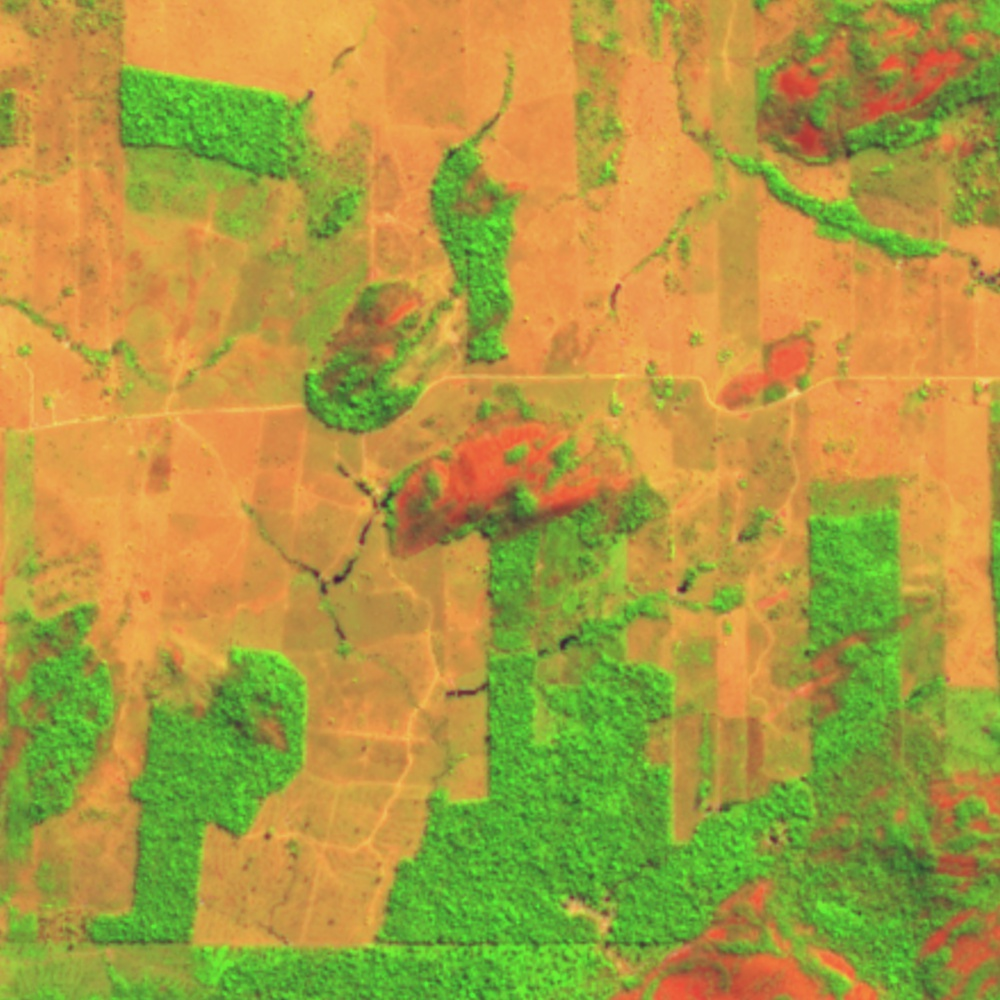legal: (243, 459, 405, 651), (556, 878, 650, 983), (601, 219, 679, 323), (293, 35, 364, 113), (719, 799, 797, 853), (445, 112, 500, 174), (534, 620, 595, 662), (955, 248, 1000, 295), (671, 556, 716, 601), (442, 668, 497, 703)
